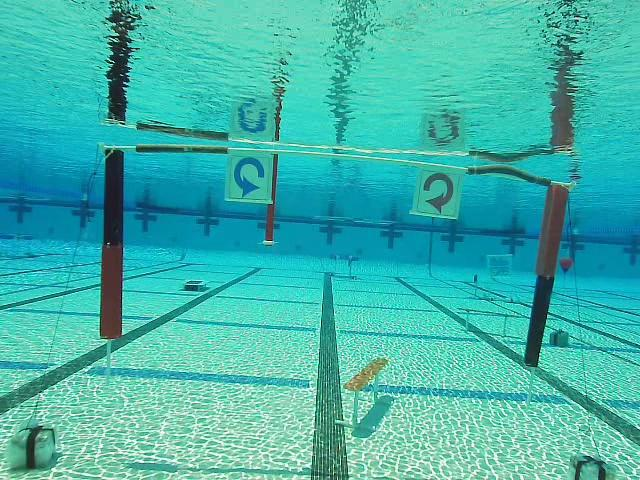buoy: (560, 255, 572, 278)
dropper: (182, 278, 207, 291)
gate: (97, 142, 569, 369)
gate_blue: (225, 152, 274, 204)
gate_leg_l: (100, 144, 128, 341)
gate_leg_r: (523, 182, 571, 367)
gate_red: (412, 167, 461, 218)
table: (329, 253, 359, 280)
torpedo: (488, 253, 511, 275)
